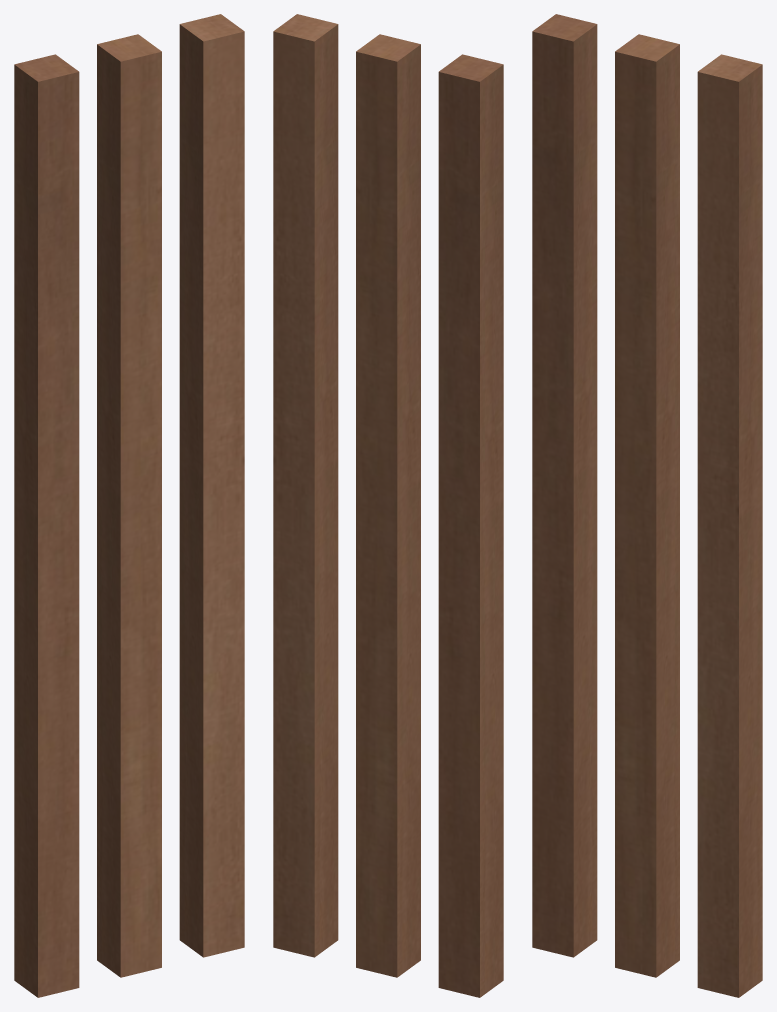
The model's file is eaw-slit-85-3_h1800_jara.fbx.
The picture shows the model from 3 angles, left to right: view 1: azimuth 30°, elevation 25°; view 2: azimuth 150°, elevation 25°; view 3: azimuth 330°, elevation 25°; orthographic projection.
Parts seen in each view (by area): view 1: eaw-slit-85-3_h1800_jara; view 2: eaw-slit-85-3_h1800_jara; view 3: eaw-slit-85-3_h1800_jara.
Boxes of the visible parts, x1,y1,x2,y2 form: eaw-slit-85-3_h1800_jara: [14, 14, 244, 997]; eaw-slit-85-3_h1800_jara: [273, 14, 503, 997]; eaw-slit-85-3_h1800_jara: [532, 14, 762, 997].
Size of the model in its own units: 42.5 by 180 by 8.5.
Materials: 1 (1 with a texture image).
